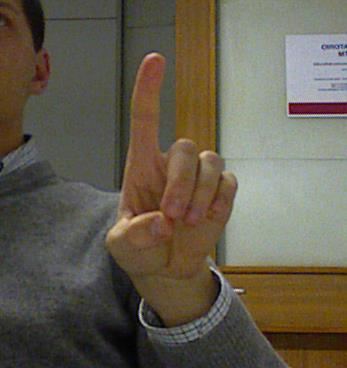up: (104, 49, 240, 279)
